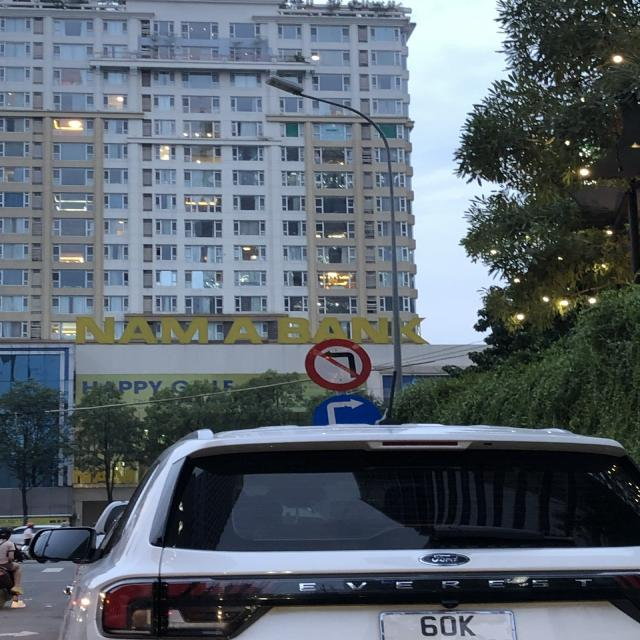Bien bao cam re trai: (296, 330, 384, 391)
